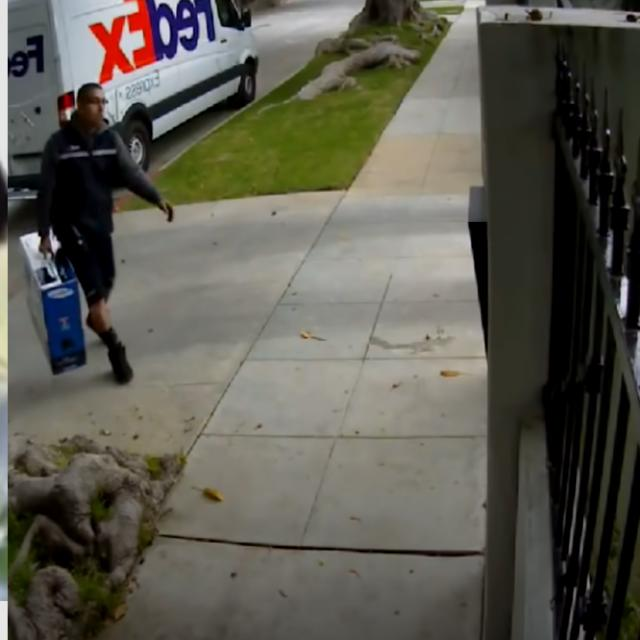person: (36, 82, 174, 384)
